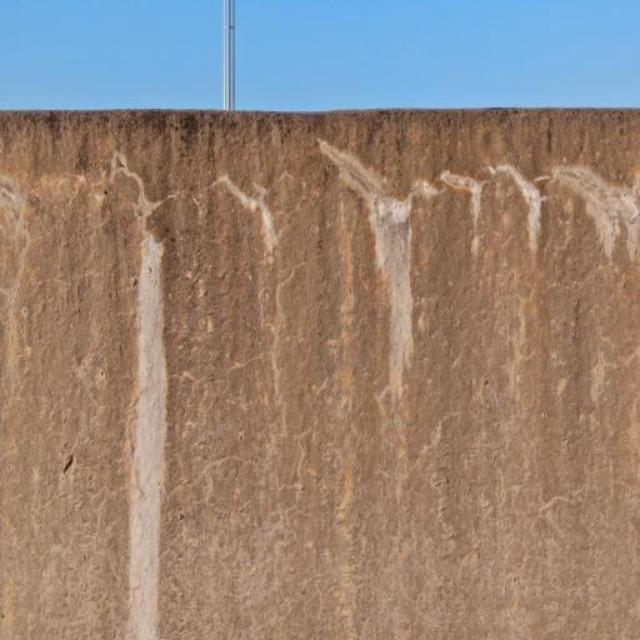D01: (114, 154, 169, 639), (130, 174, 169, 639), (550, 162, 639, 258), (218, 174, 277, 257), (490, 162, 540, 249)
